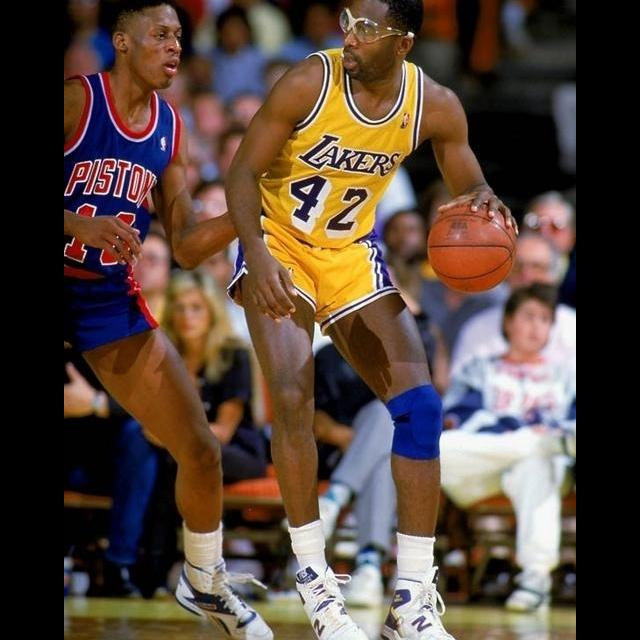basketball: (427, 195, 516, 294)
